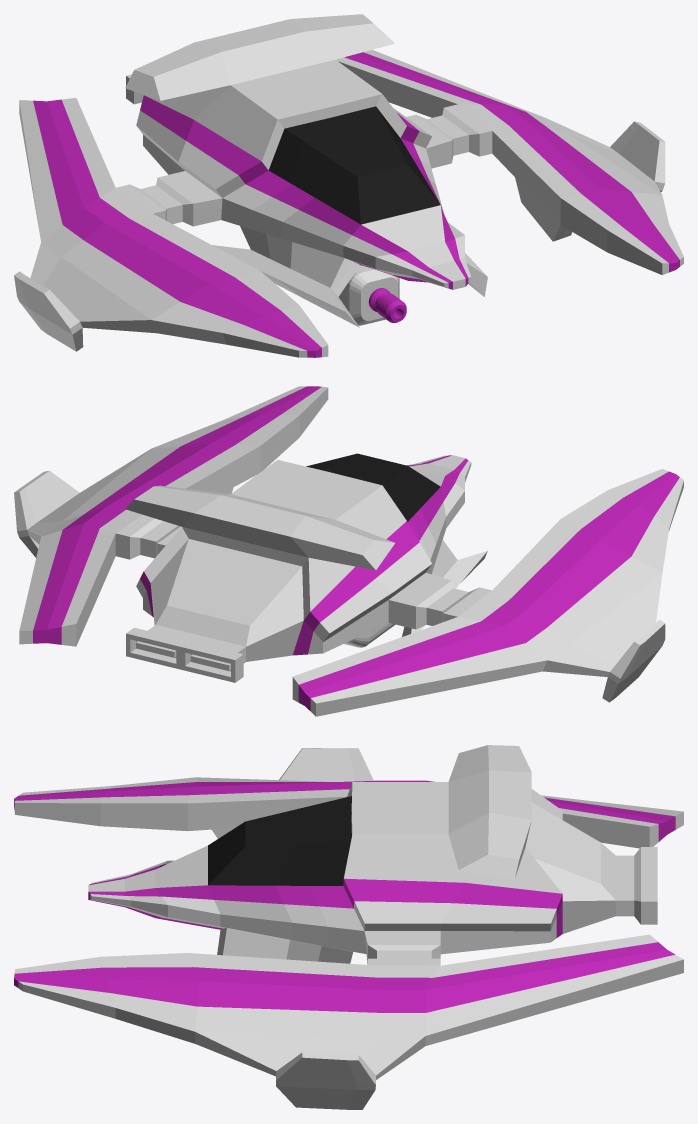
File: nave1.fbx
The picture shows the model from 3 angles, top to bottom: view 1: azimuth 30°, elevation 25°; view 2: azimuth 150°, elevation 25°; view 3: azimuth 270°, elevation 25°; orthographic projection. The views are drawn at different scales.
Parts seen in each view (by area): view 1: spaceship, franjas, cabina, cuerpo arma, cañon; view 2: spaceship, franjas, cabina; view 3: spaceship, franjas, cabina.
Boxes of the visible parts, x1,y1,x2,y2 form: spaceship: (14,14,683,357); franjas: (33,52,679,357); cabina: (268,106,440,224); cuerpo arma: (339,265,399,325); cañon: (368,288,406,322); spaceship: (14,386,683,716); franjas: (33,386,679,710); cabina: (306,453,440,521); spaceship: (14,745,683,1109); franjas: (14,780,675,1012); cabina: (208,796,351,885).
Bounding box in the file's own units: 12.16 × 3.69 × 11.04.
